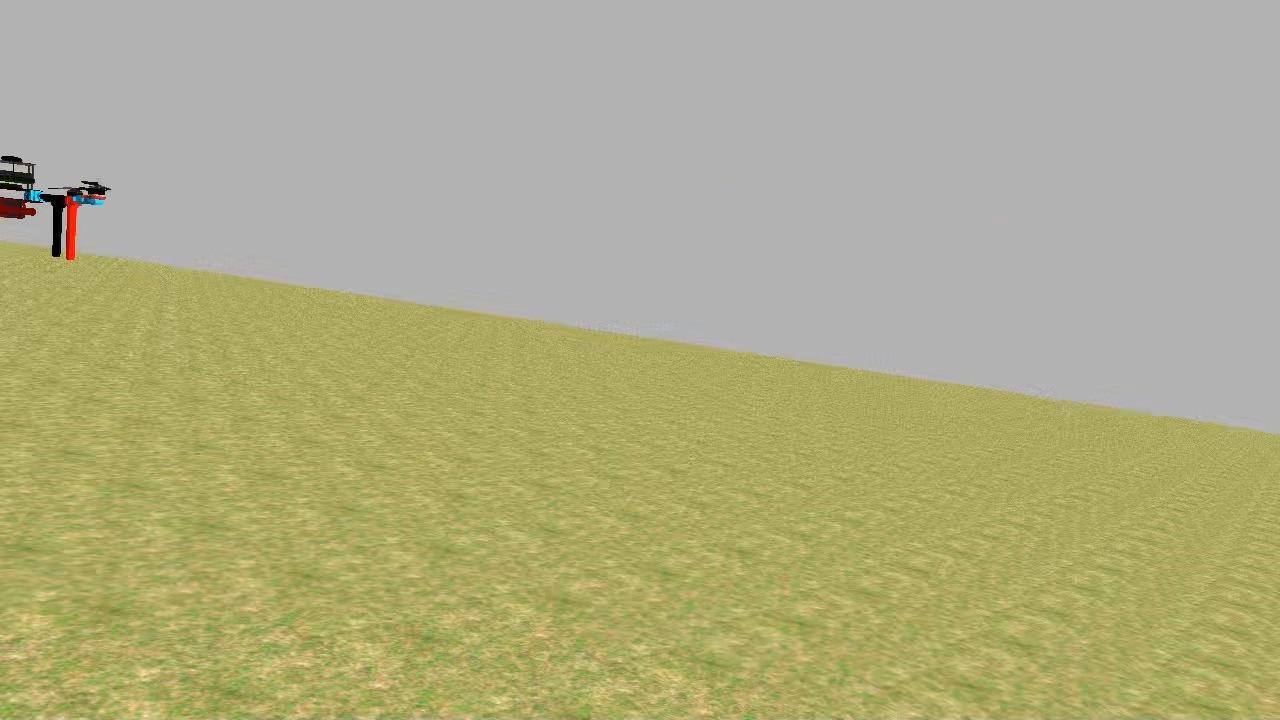UAV: (0, 143, 117, 268)
